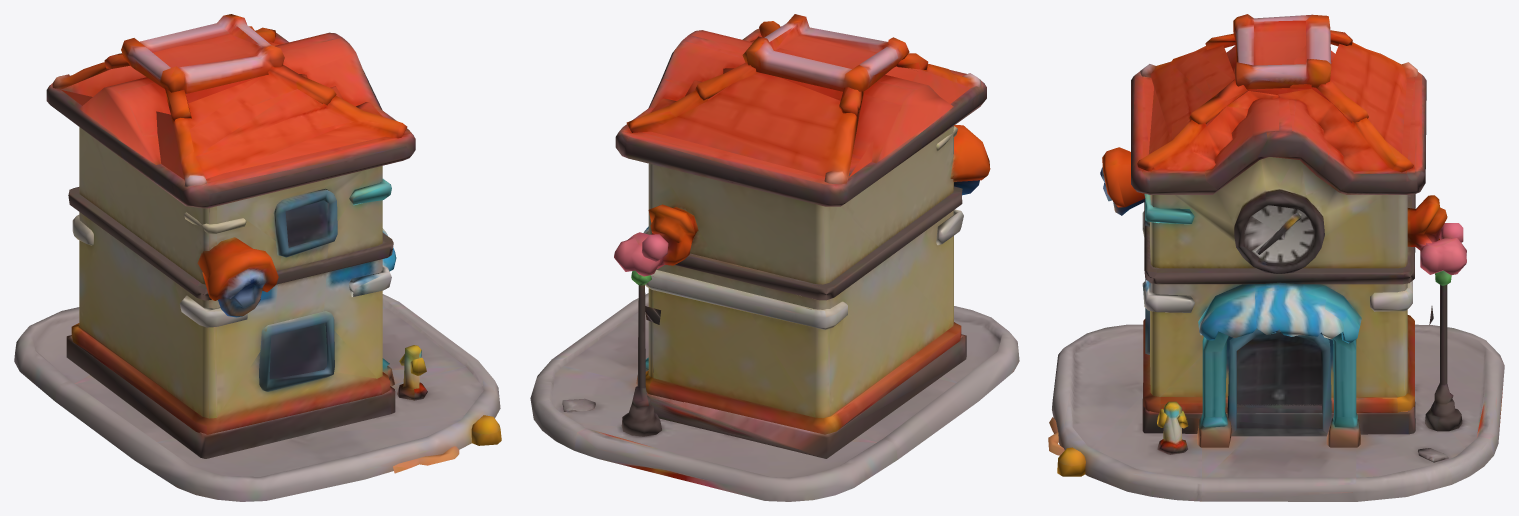
Rendered from bld-station.glb.
3 views of the same model, side by side, from view 1: azimuth 30°, elevation 25°; view 2: azimuth 150°, elevation 25°; view 3: azimuth 270°, elevation 25° (orthographic). The views are drawn at different scales.
Visible parts, largest first — view 1: tripo_node_dff0b4d5-426a-4e95-90e0-6f65739afd31; view 2: tripo_node_dff0b4d5-426a-4e95-90e0-6f65739afd31; view 3: tripo_node_dff0b4d5-426a-4e95-90e0-6f65739afd31.
Boxes of the visible parts, left/top/right/bottom form: tripo_node_dff0b4d5-426a-4e95-90e0-6f65739afd31: left=14, top=14, right=501, bottom=501; tripo_node_dff0b4d5-426a-4e95-90e0-6f65739afd31: left=530, top=14, right=1019, bottom=501; tripo_node_dff0b4d5-426a-4e95-90e0-6f65739afd31: left=1048, top=14, right=1504, bottom=501.
Bounding box in the file's own units: 0.8496 × 0.8418 × 0.9922.
1 material, 1 textured.
